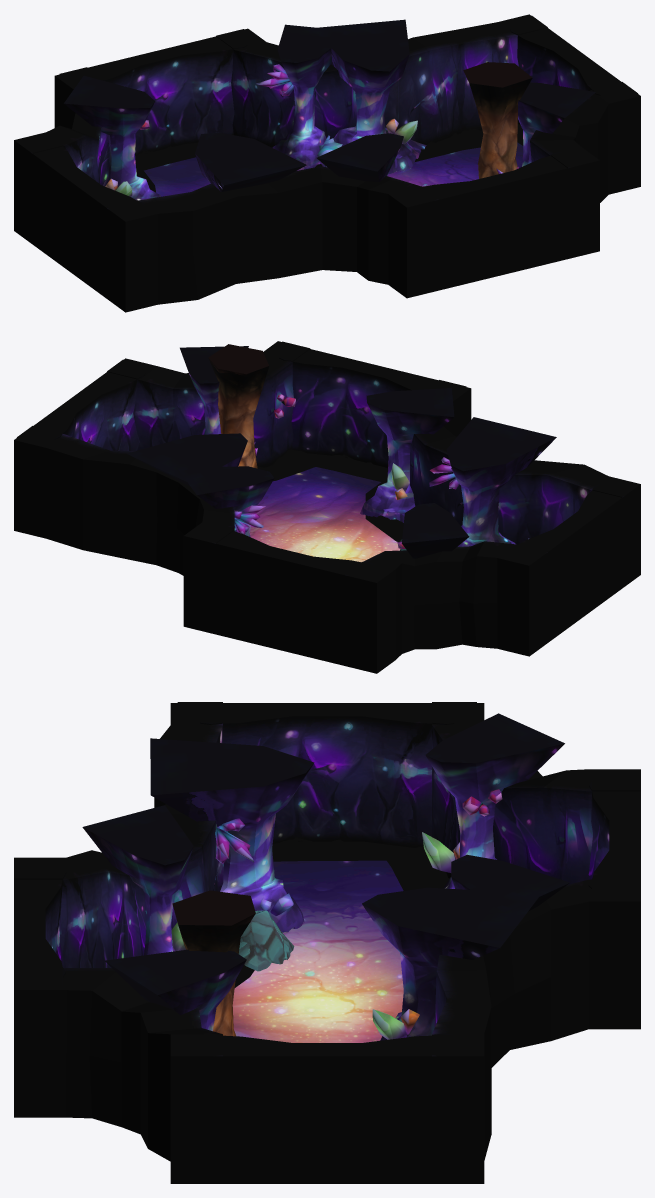
File: Dungeon_101_RoadX_001.fbx
The picture shows the model from 3 angles, top to bottom: view 1: azimuth 30°, elevation 25°; view 2: azimuth 150°, elevation 25°; view 3: azimuth 270°, elevation 25°; orthographic projection. The views are drawn at different scales.
Visible parts, largest first — view 1: Dun_101_RoadX_001_Wall, Dun_101_Door_002 (×4), Dun_101_RoadX_001_object_02, Dungeon_011_Object_010, Dun_101_RoadX_001_Ground, Dun_101_RoadX_001_object_01, Dun_101_RoadX_001_shadow, Dun_011_Door_002_shadow; view 2: Dun_101_RoadX_001_Wall, Dun_101_Door_002 (×4), Dun_101_RoadX_001_object_02, Dun_101_RoadX_001_Ground, Dungeon_011_Object_010, Dun_101_RoadX_001_object_01, Dun_011_Door_002_shadow, Dun_101_RoadX_001_shadow; view 3: Dun_101_RoadX_001_Wall, Dun_101_Door_002 (×4), Dun_101_RoadX_001_object_02, Dun_101_RoadX_001_Ground, Dungeon_011_Object_010, Dun_101_RoadX_001_object_01, Dun_011_Door_002_shadow, Dungeon_011_Object_012, Dun_101_RoadX_001_shadow.
Part boxes in pixels (x1,y1,x2,y2): Dun_101_RoadX_001_Wall: [14, 14, 640, 312]; Dun_101_Door_002 (×4): [17, 15, 637, 298]; Dun_101_RoadX_001_object_02: [64, 19, 595, 200]; Dungeon_011_Object_010: [463, 62, 532, 178]; Dun_101_RoadX_001_Ground: [144, 142, 523, 196]; Dun_101_RoadX_001_object_01: [105, 64, 518, 196]; Dun_101_RoadX_001_shadow: [136, 124, 518, 192]; Dun_011_Door_002_shadow: [135, 142, 197, 172]; Dun_101_RoadX_001_Wall: [14, 341, 640, 673]; Dun_101_Door_002 (×4): [17, 341, 637, 665]; Dun_101_RoadX_001_object_02: [127, 346, 556, 558]; Dun_101_RoadX_001_Ground: [250, 467, 400, 562]; Dungeon_011_Object_010: [208, 344, 268, 468]; Dun_101_RoadX_001_object_01: [234, 394, 528, 548]; Dun_011_Door_002_shadow: [292, 450, 387, 482]; Dun_101_RoadX_001_shadow: [257, 449, 403, 541]; Dun_101_RoadX_001_Wall: [14, 703, 640, 1183]; Dun_101_Door_002 (×4): [14, 702, 640, 1183]; Dun_101_RoadX_001_object_02: [82, 713, 569, 1040]; Dun_101_RoadX_001_Ground: [232, 860, 403, 1042]; Dungeon_011_Object_010: [172, 890, 255, 1036]; Dun_101_RoadX_001_object_01: [171, 789, 502, 1039]; Dun_011_Door_002_shadow: [272, 837, 425, 861]; Dungeon_011_Object_012: [238, 910, 294, 971]; Dun_101_RoadX_001_shadow: [234, 853, 449, 987].
Size of what is drawn, in the model's own units: 12 by 3 by 9.
